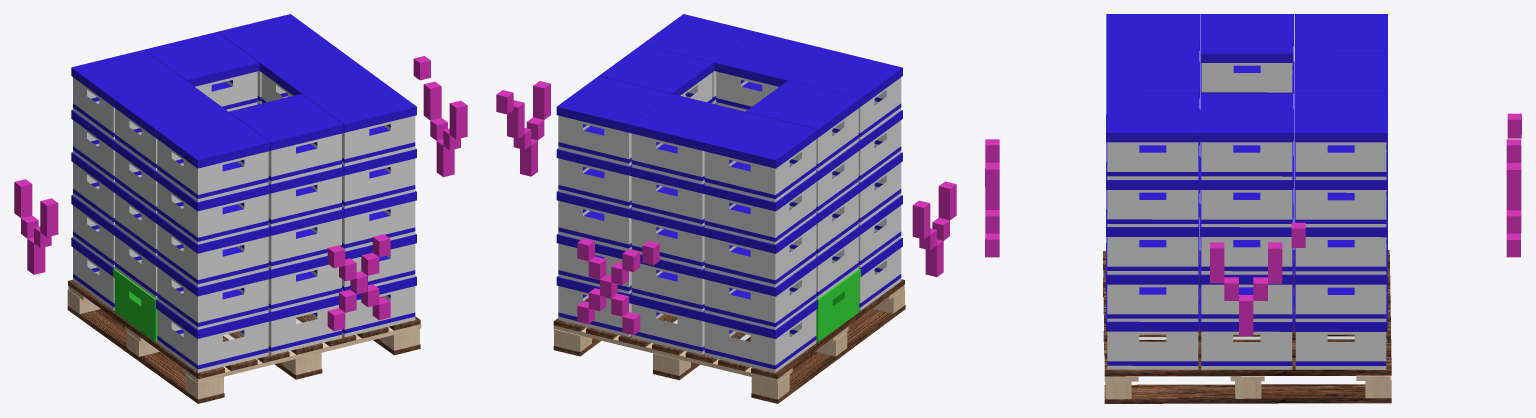
The model's file is caja121.gltf.
The picture shows the model from 3 angles, left to right: view 1: azimuth 30°, elevation 25°; view 2: azimuth 150°, elevation 25°; view 3: azimuth 270°, elevation 25°; orthographic projection. The views are drawn at different scales.
Parts seen in each view (by area): view 1: Cube.031_1, Cube.026_1, Cube.033_1, Cube.032_1, Cube.029_1, Cube.030_1, Cube.027_1, Cube.004_0, Cube.031_0, Cube.020_0, Cube.012_0, Cube.039_0 (+53 smaller); view 2: Cube.029_1, Cube.028_1, Cube.032_1, Cube.033_1, Cube.030_1, Cube.031_1, Cube.027_1, Cube.007_0, Cube.029_0, Cube.022_0, Cube.014_0, Cube.037_0 (+52 smaller); view 3: Cube.028_1, Cube.027_1, Cube.026_1, Cube.030_1, Cube055, Cube.033_1, Cube.032_1, Cube.031_1, Cube.029_1, Cube.001_0, Cube.002_0, Cube.017_0 (+33 smaller).
Boxes of the visible parts, left/top/right/bottom form: Cube.031_1: left=155, top=111, right=270, bottom=198; Cube.026_1: left=302, top=76, right=416, bottom=163; Cube.033_1: left=229, top=94, right=343, bottom=180; Cube.032_1: left=144, top=32, right=259, bottom=109; Cube.029_1: left=71, top=49, right=185, bottom=136; Cube.030_1: left=113, top=81, right=227, bottom=167; Cube.027_1: left=260, top=45, right=374, bottom=102; Cube.004_0: left=157, top=309, right=268, bottom=372; Cube.031_0: left=157, top=139, right=268, bottom=202; Cube.020_0: left=157, top=224, right=268, bottom=287; Cube.012_0: left=157, top=267, right=268, bottom=329; Cube.039_0: left=157, top=182, right=268, bottom=244; Cube.029_1: left=703, top=111, right=817, bottom=198; Cube.028_1: left=556, top=76, right=671, bottom=163; Cube.032_1: left=630, top=94, right=744, bottom=180; Cube.033_1: left=714, top=32, right=829, bottom=109; Cube.030_1: left=745, top=81, right=860, bottom=167; Cube.031_1: left=788, top=50, right=902, bottom=136; Cube.027_1: left=599, top=45, right=713, bottom=103; Cube.007_0: left=704, top=310, right=816, bottom=372; Cube.029_0: left=704, top=139, right=816, bottom=202; Cube.022_0: left=704, top=225, right=816, bottom=287; Cube.014_0: left=704, top=267, right=816, bottom=329; Cube.037_0: left=704, top=182, right=816, bottom=244; Cube.028_1: left=1294, top=93, right=1387, bottom=176; Cube.027_1: left=1200, top=93, right=1293, bottom=176; Cube.026_1: left=1106, top=93, right=1199, bottom=176; Cube.030_1: left=1200, top=14, right=1293, bottom=93; Cube055: left=1104, top=384, right=1391, bottom=403; Cube.033_1: left=1106, top=53, right=1199, bottom=93; Cube.032_1: left=1294, top=53, right=1387, bottom=93; Cube.031_1: left=1106, top=14, right=1199, bottom=53; Cube.029_1: left=1294, top=14, right=1387, bottom=53; Cube.001_0: left=1107, top=331, right=1198, bottom=369; Cube.002_0: left=1201, top=331, right=1292, bottom=369; Cube.017_0: left=1107, top=284, right=1198, bottom=321.
Bounding box in the file's own units: 4.22 × 2.33 × 4.21.
82 materials, 2 textured.
